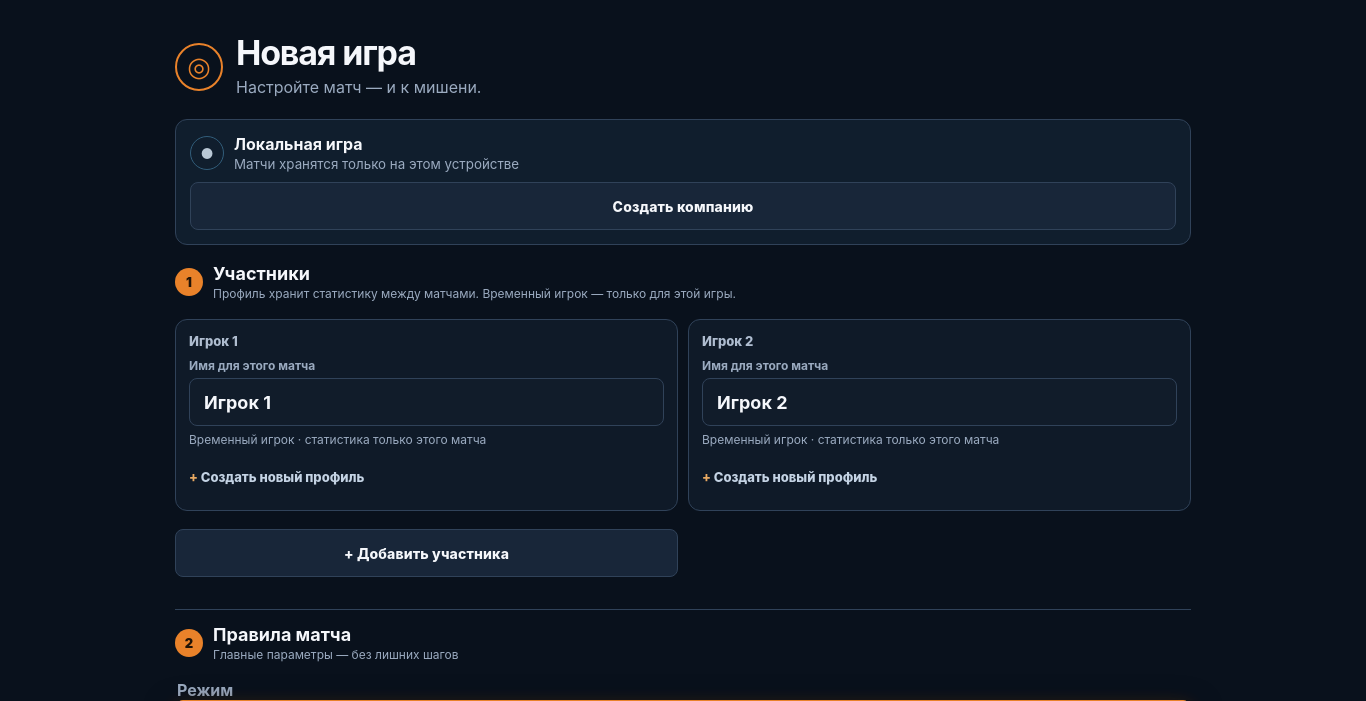
SetupPage participants › creates and selects a local persistent profile directly in its participant slot
The width and height of the screenshot is (1366, 701).
Click the 1st button "Создать новый профиль". click: coordinates (277, 477)
box: [189,457,364,497]
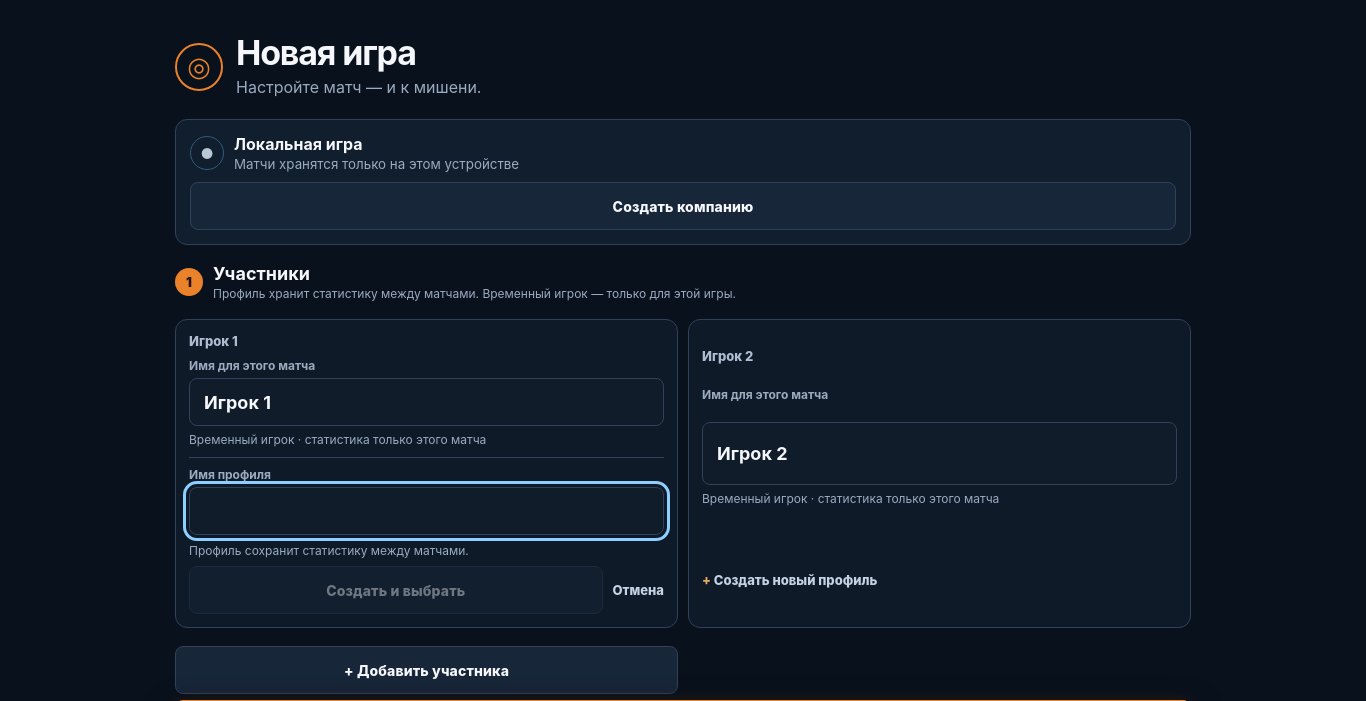
Type " Миша " into the field labelled "Имя профиля". click: coordinates (426, 511)
box: [189,487,664,535]
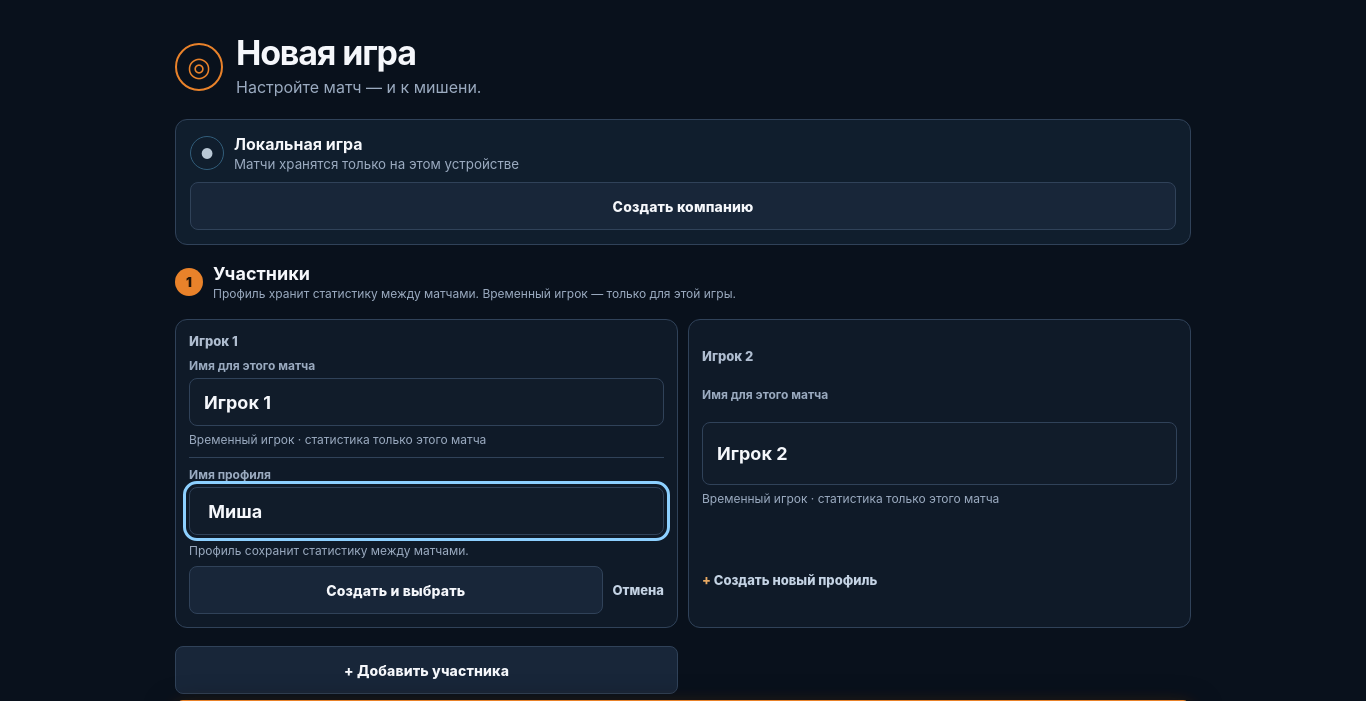
Click the button "Создать и выбрать". click: coordinates (396, 590)
box: [189,566,602,614]
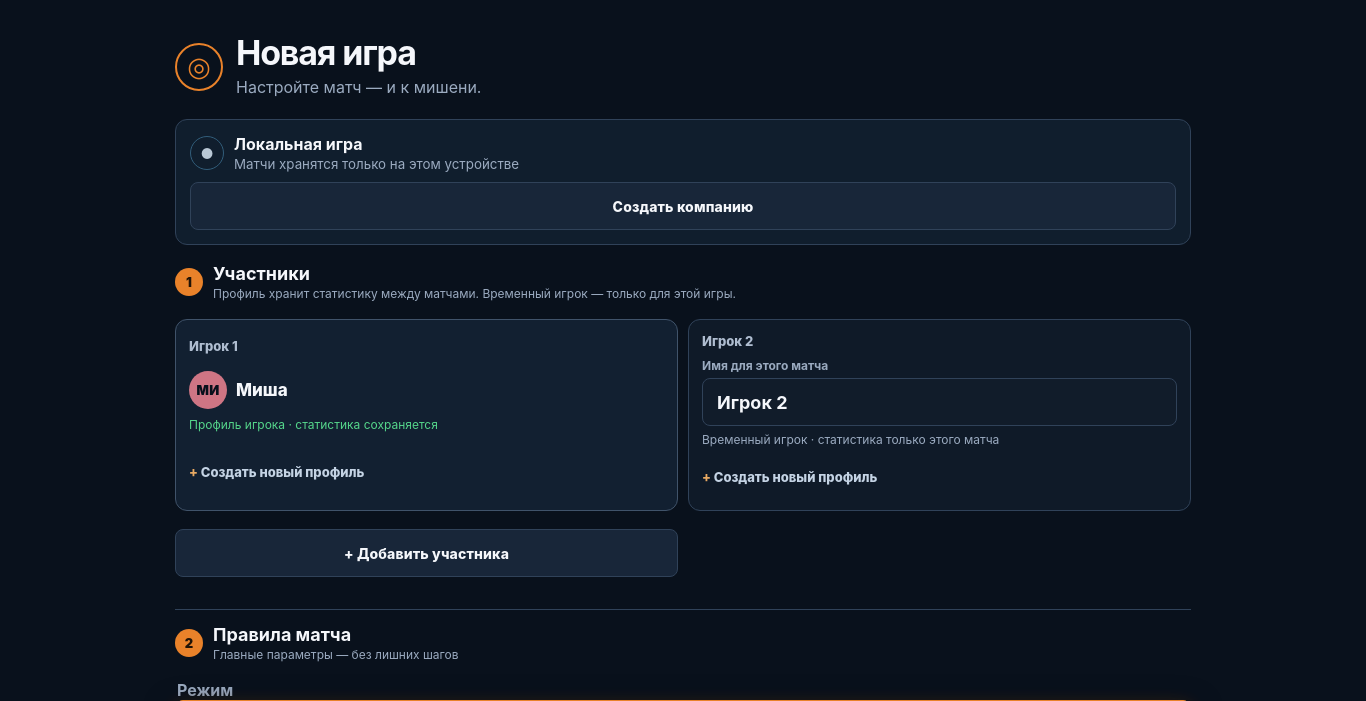
Expected: the text "Профиль игрока · статистика сохраняется" is shown, [189,417,438,432]
Expected: the text "Миша" is shown 2 times
